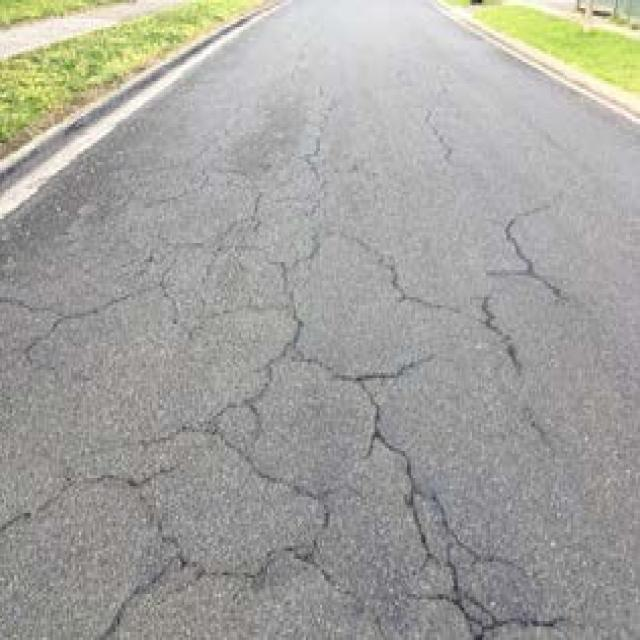Drain Hole: (26, 113, 640, 640)
